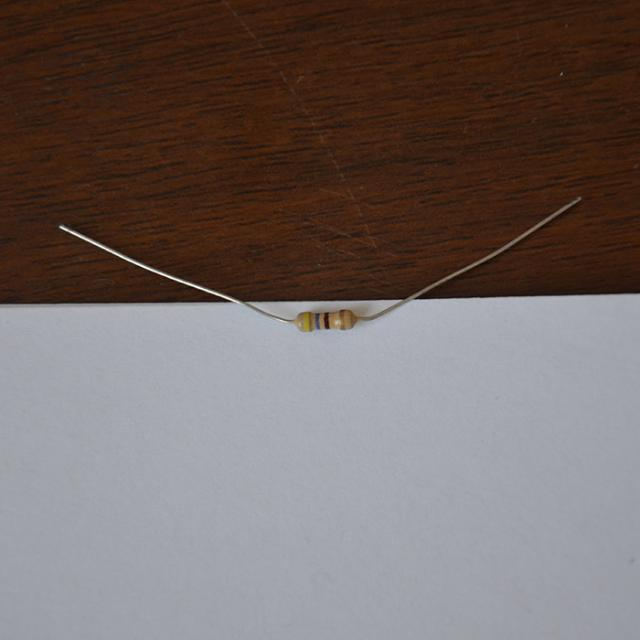brown: (325, 313, 330, 328)
gold: (339, 310, 345, 329)
resistor: (290, 304, 364, 340)
violet: (315, 313, 320, 328)
yellow: (303, 310, 310, 331)
